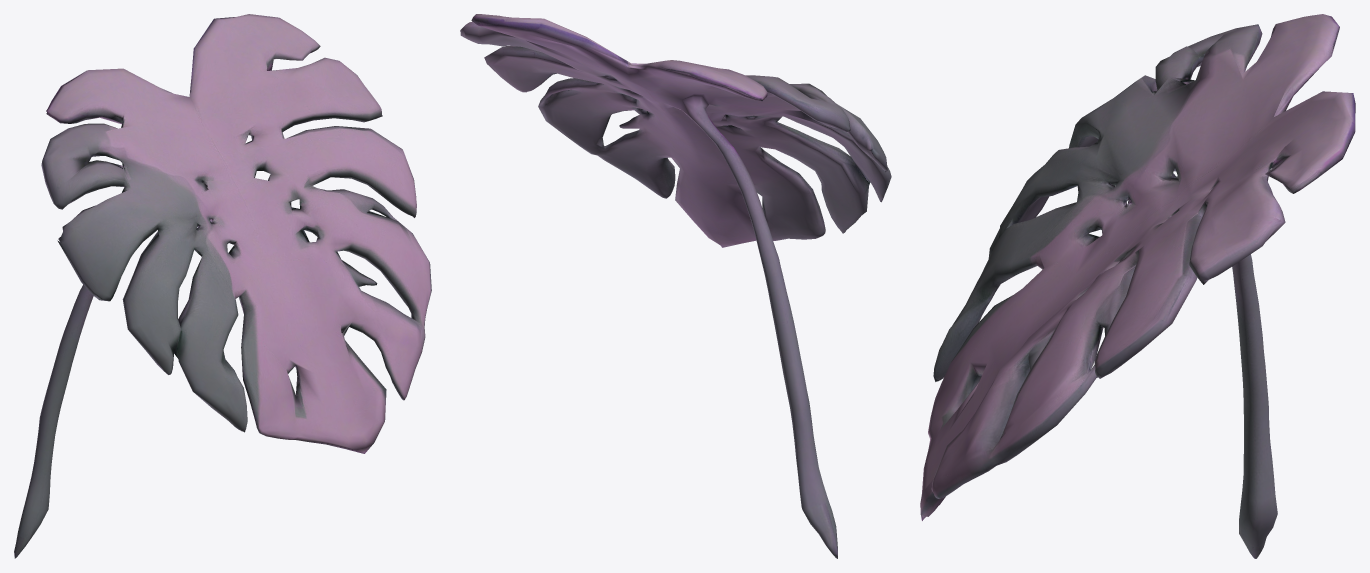
File: mon_mauve.glb
3 renders of one model, left to right at view 1: azimuth 30°, elevation 25°; view 2: azimuth 150°, elevation 25°; view 3: azimuth 270°, elevation 25°, orthographic. The views are drawn at different scales.
Size of the model in its own units: 1.63 by 2 by 1.26.
1 material, 1 textured.
